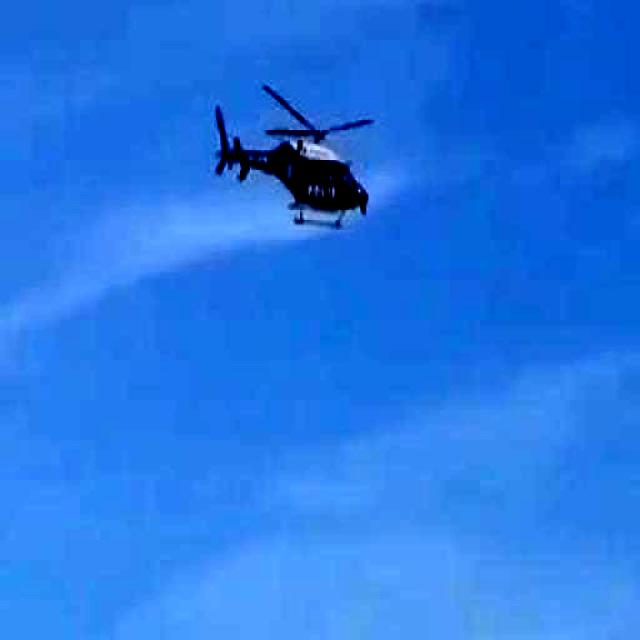drone: (190, 39, 396, 299)
